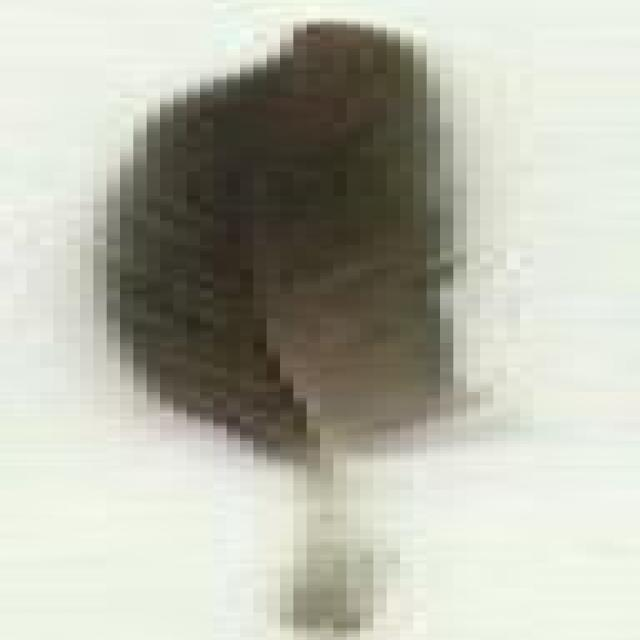feather: (100, 15, 500, 640)
